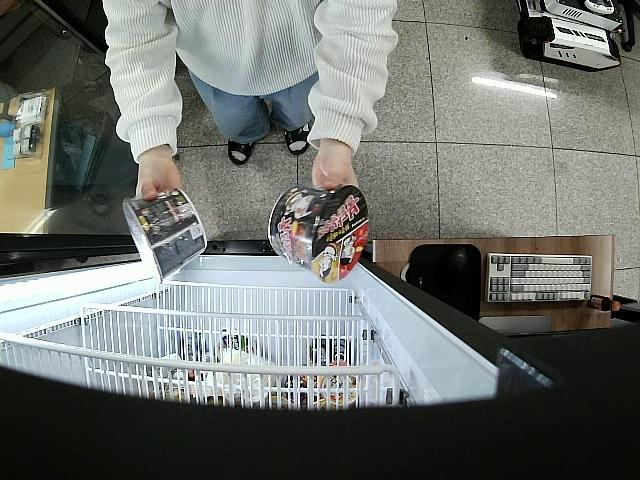00_hand: (132, 158, 184, 204), (313, 155, 361, 191)
07_buldak_L: (268, 186, 368, 281), (123, 188, 209, 288)
